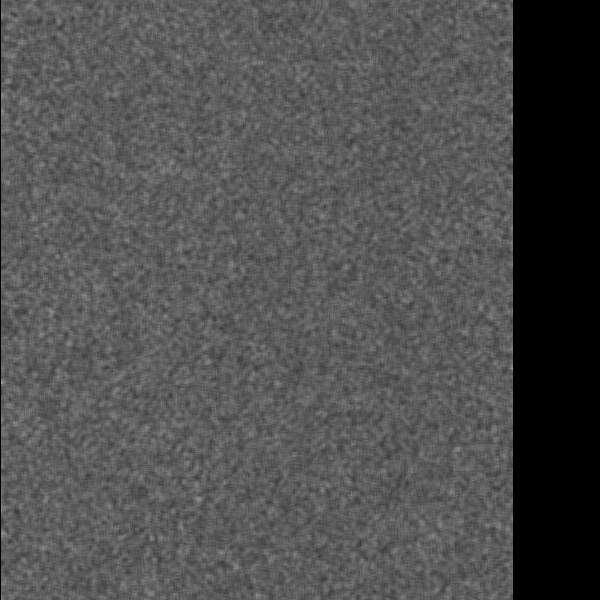spark: (423, 11, 451, 116), (329, 564, 383, 596)
